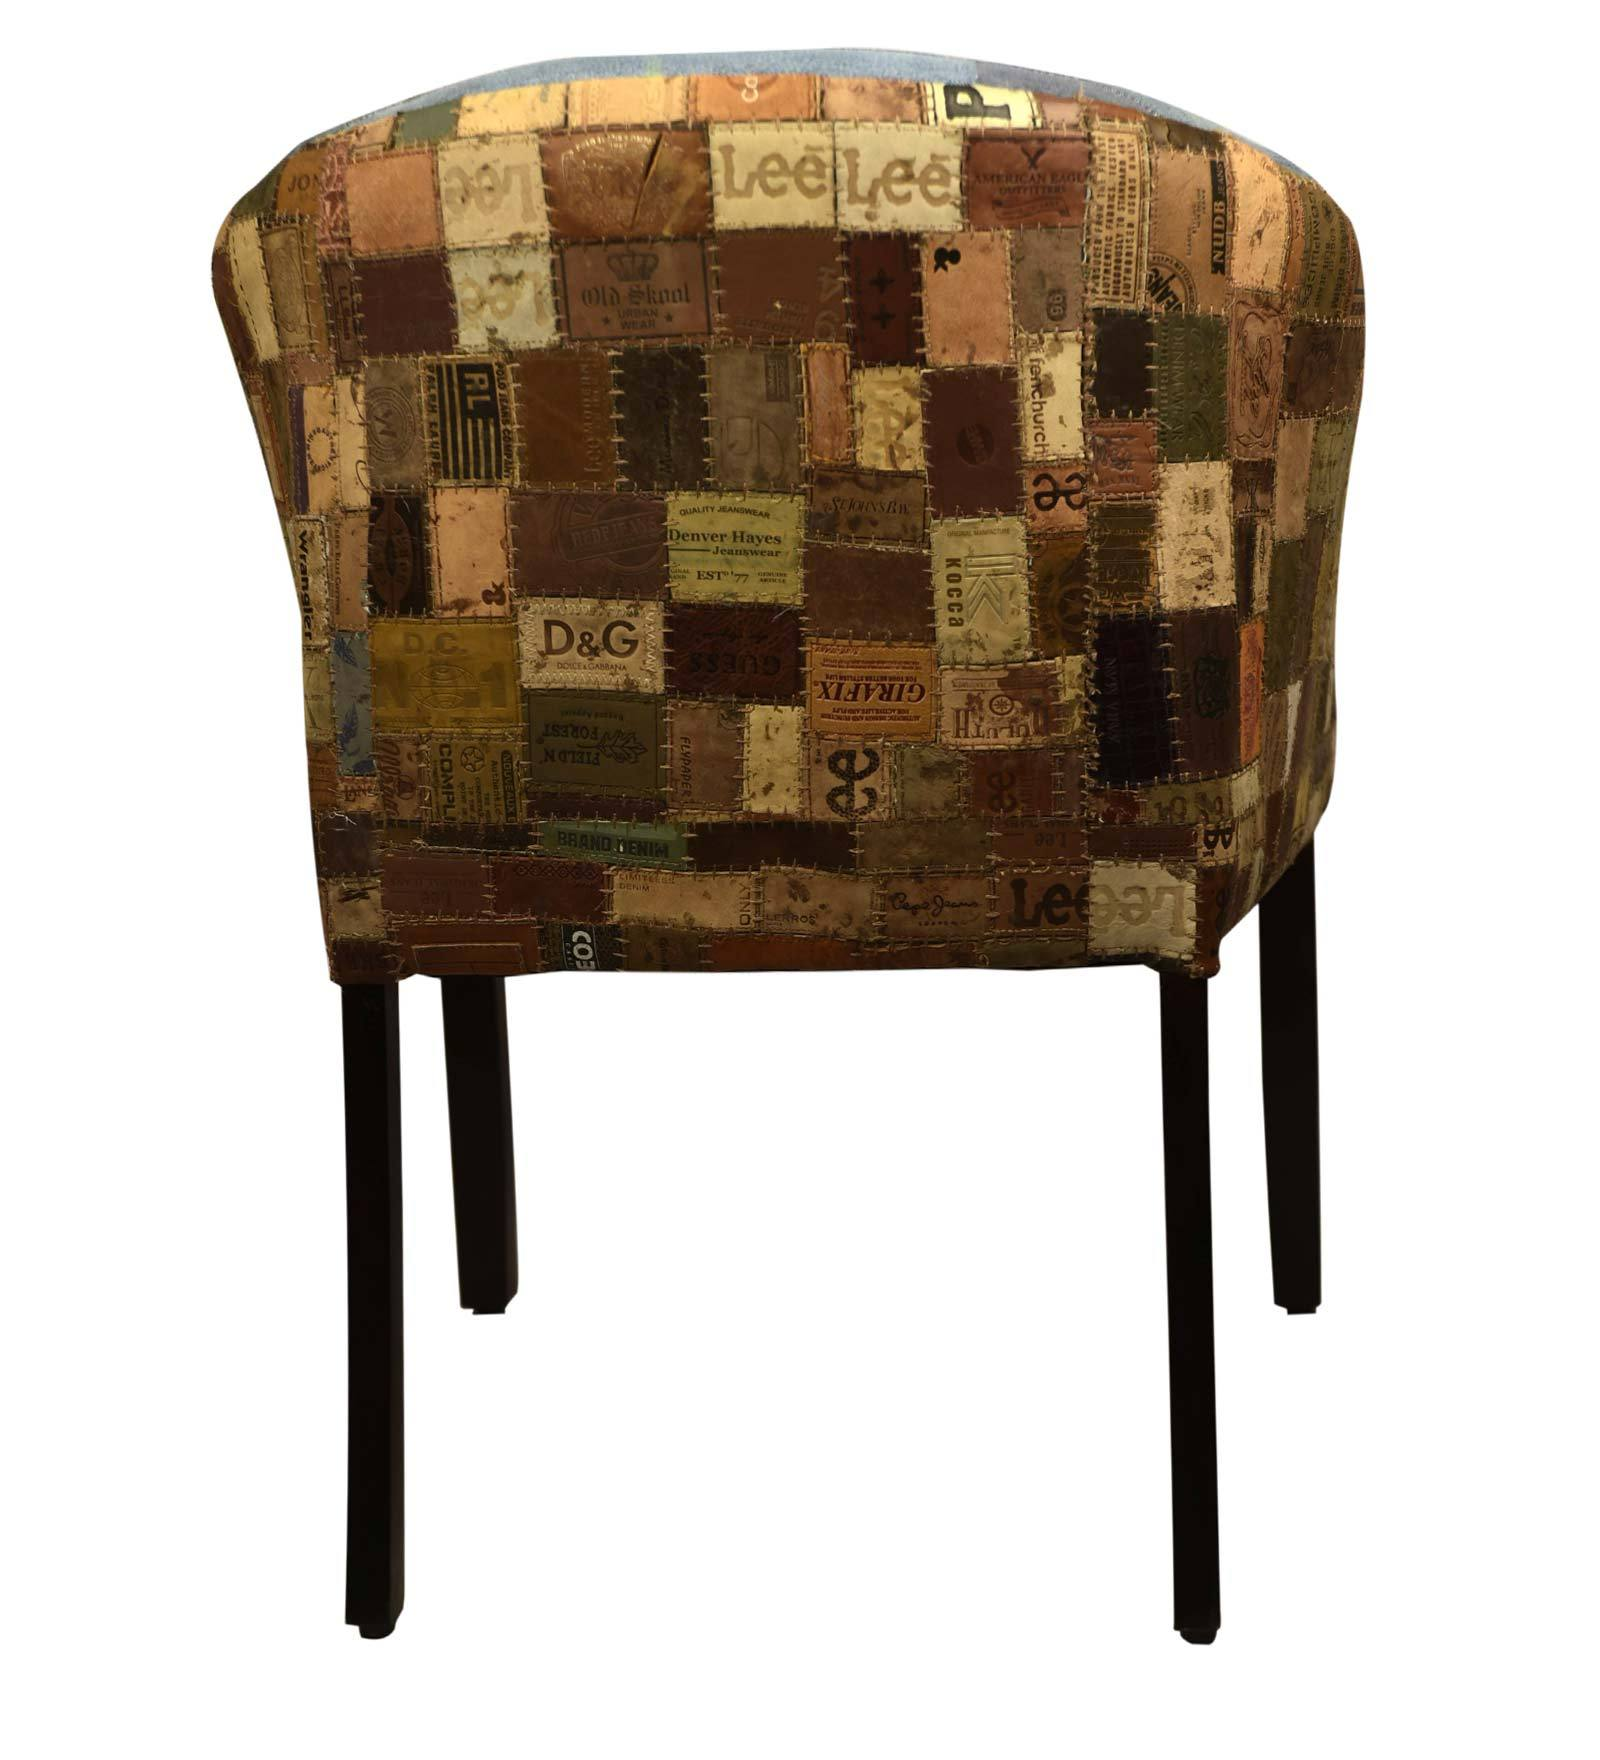Toby Tob Innova Chair with Denim Label Patch Design by Inliving: (130, 21, 1462, 1694)
